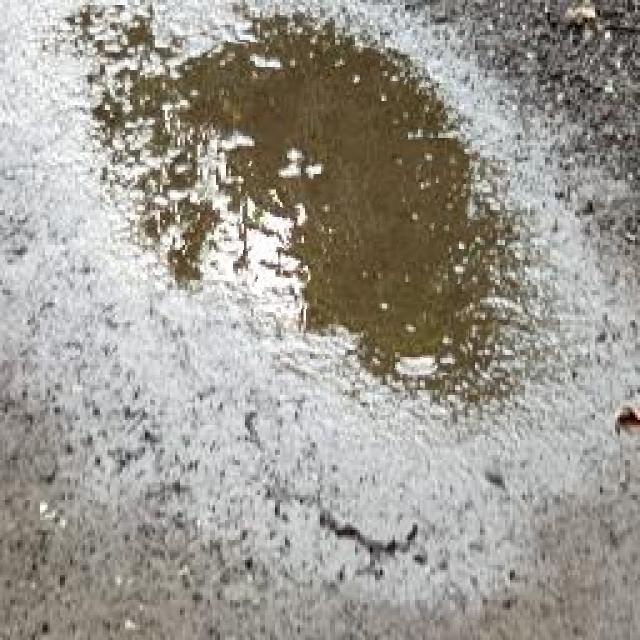puddle: (204, 45, 477, 375)
